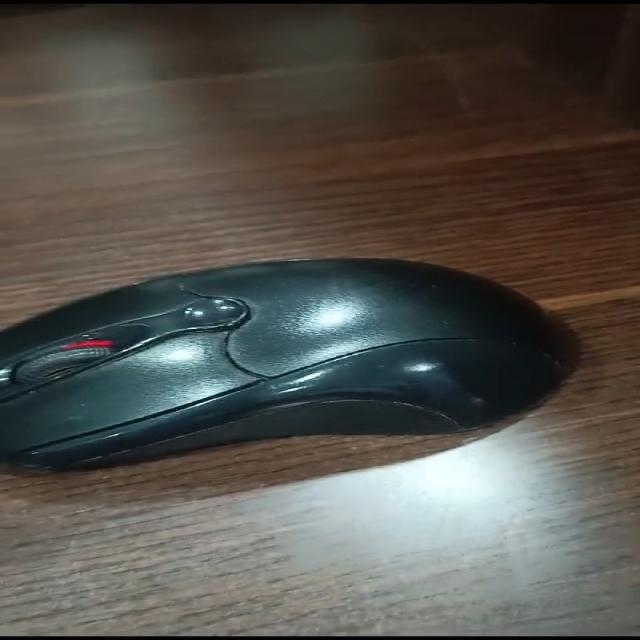mouse: (0, 220, 598, 526)
